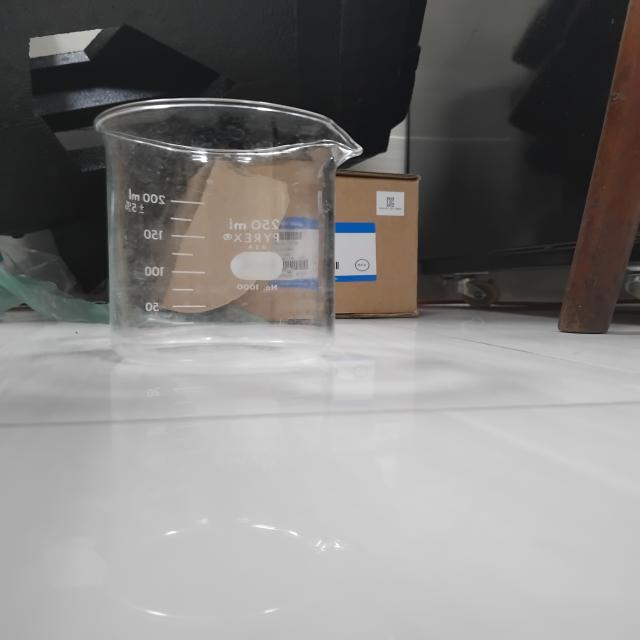Beaker: (61, 72, 395, 393)
